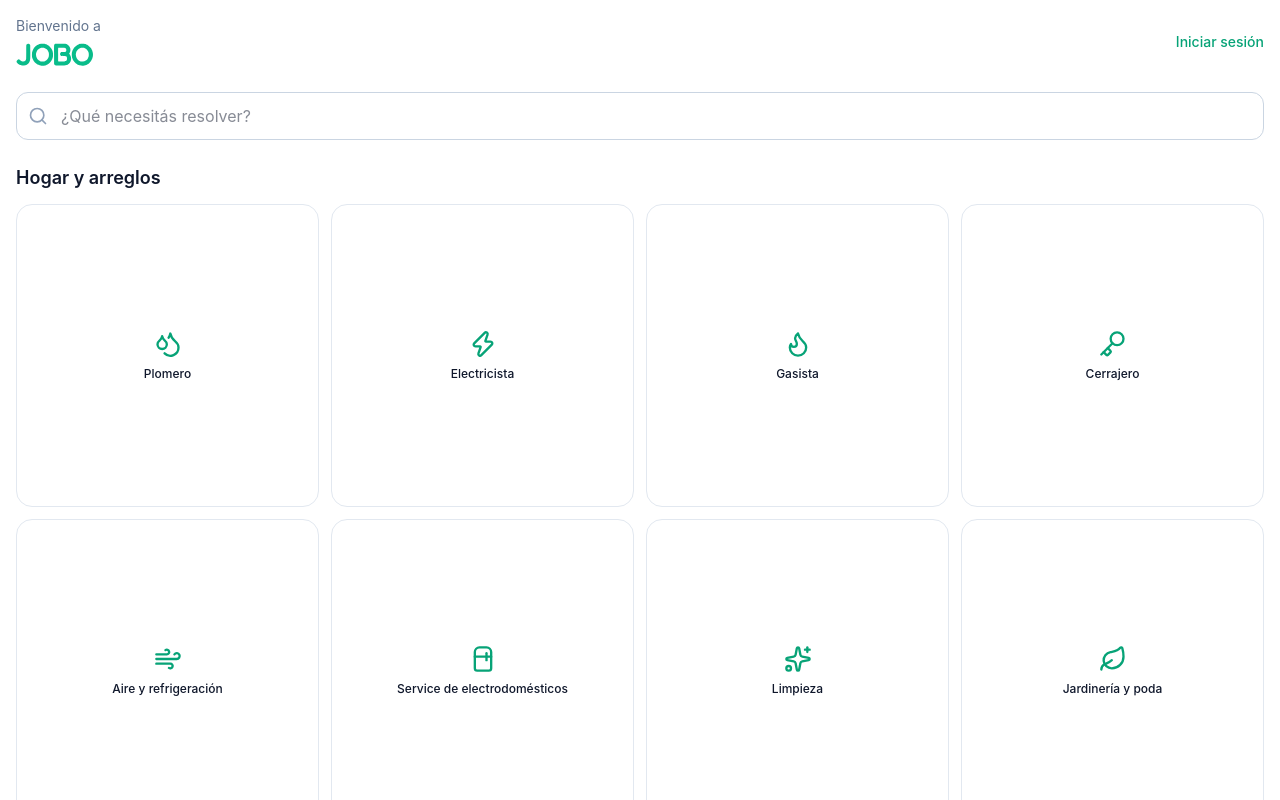
Scenario: buscar desde la home › no dice "sin resultados" mientras todavía está buscando
Type "poda" into the search field named "Buscar profesionales" at (640, 116), box [16,92,1264,140]
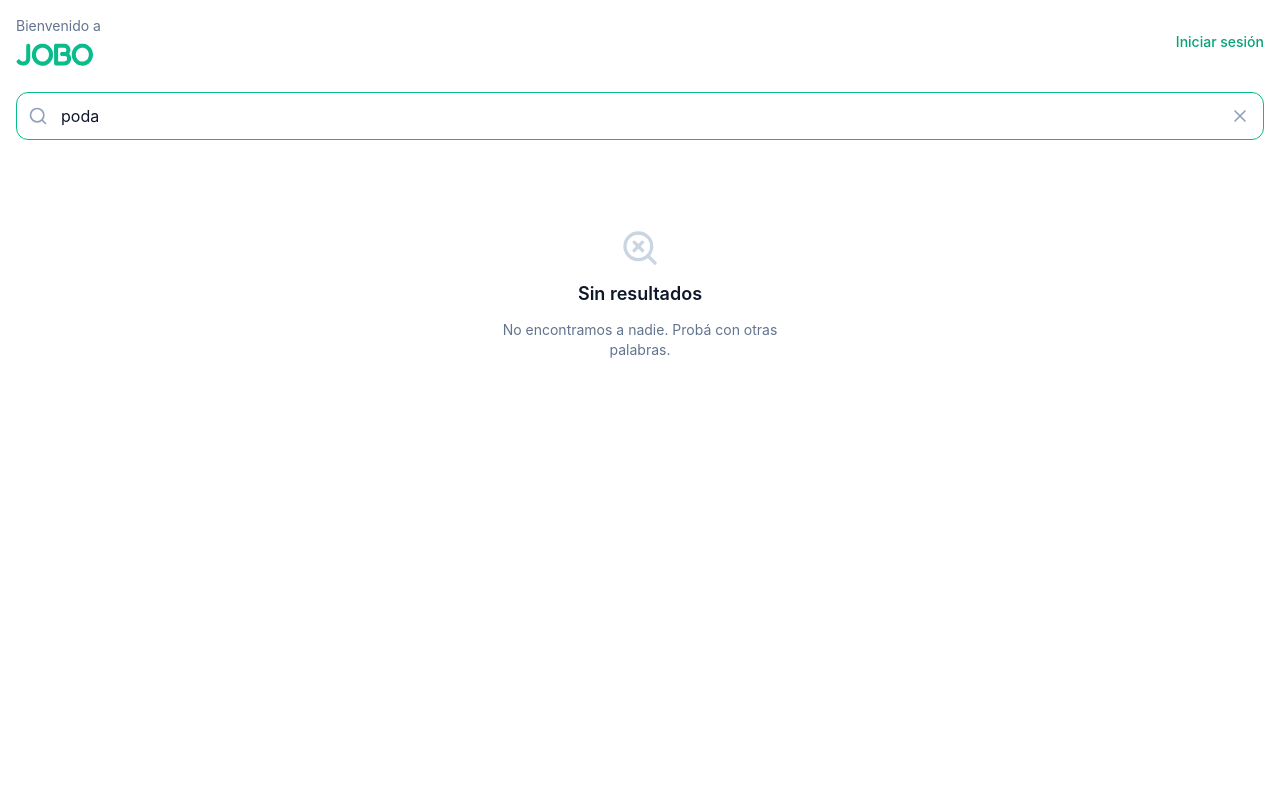
Expected: the heading "Sin resultados" is shown, [578,280,702,308]
